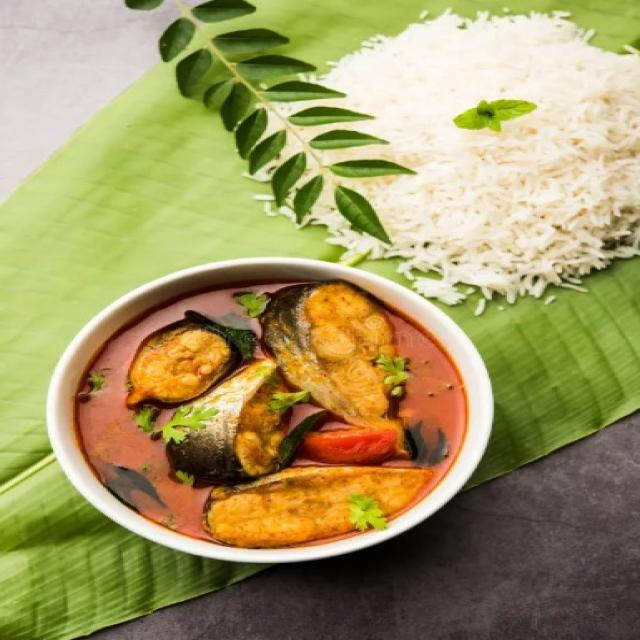FISH CURRY: (71, 280, 469, 548)
RICE: (309, 13, 638, 303)
